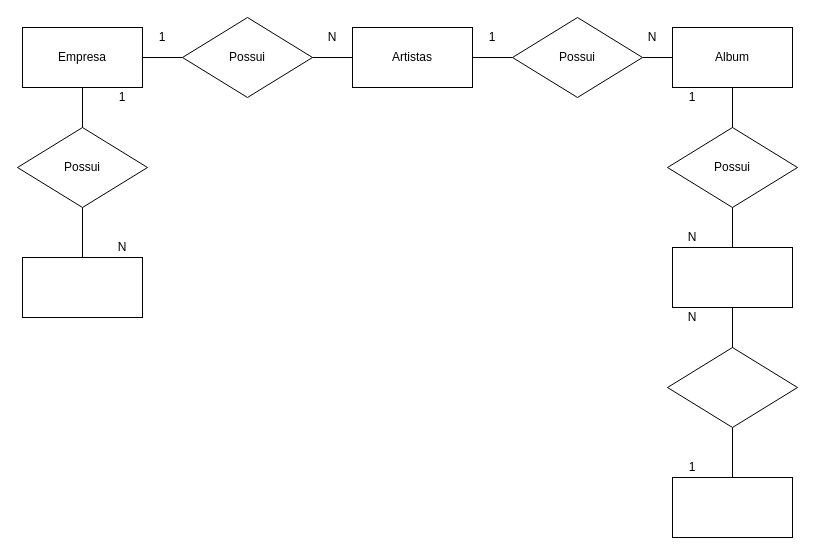
Some shapes in this 815 by 555 pixel diagram are drawn without their labels. Here are the shapes that lost their labels. From the top down, the box of each, then its label:
(22, 256, 142, 318): Usuarios
(672, 246, 792, 308): EstioAlbum(relação)
(672, 476, 792, 538): Estilo
